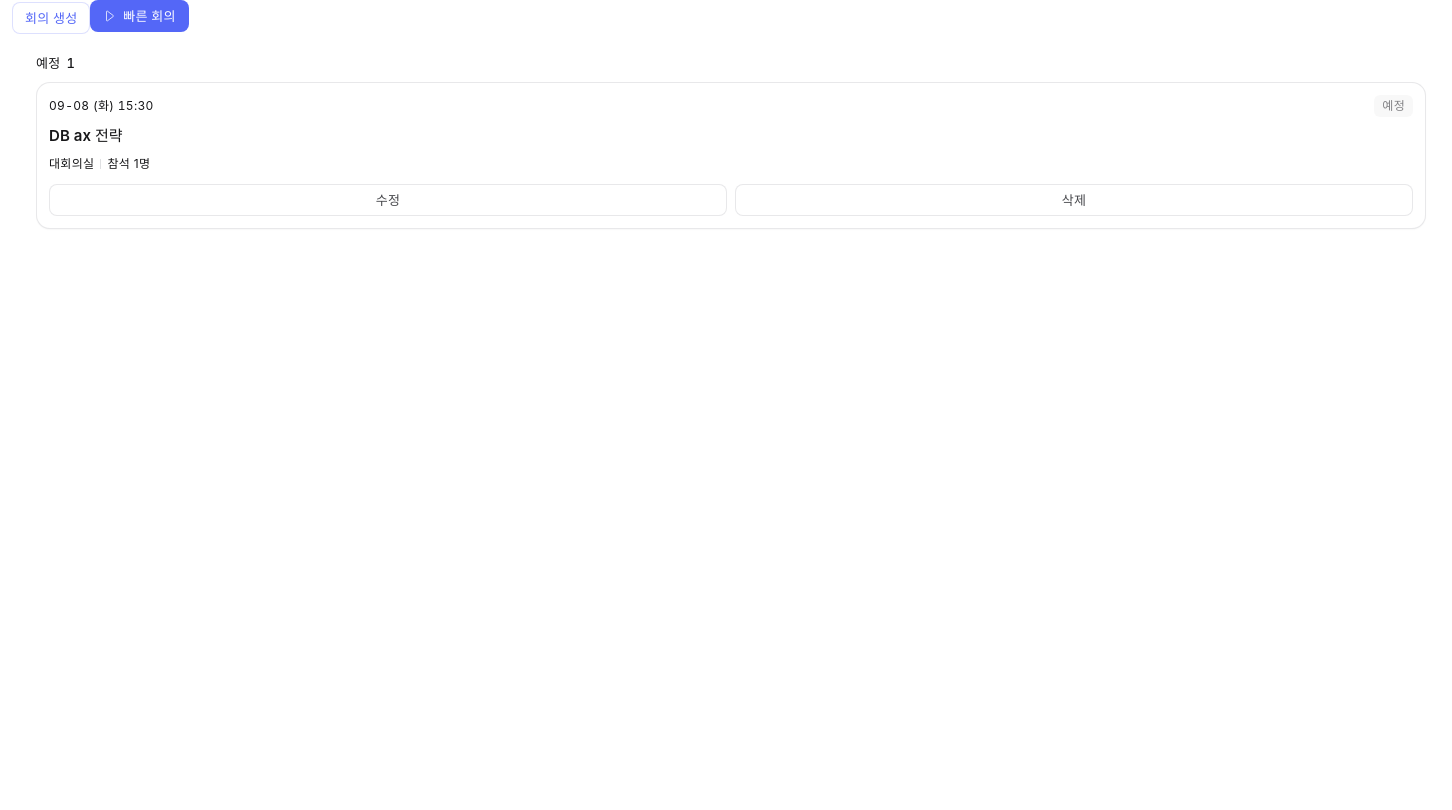
Test case: 회의 한 화면 4칸 (바퀴 6a) › 상세 ↔ 목록 동기화 › 회의를 시작하면 **카드 배지와 구획이 함께** 바뀐다
This screenshot has width=1452, height=810.
Step 1. Click the text "DB ax 전략" → (86, 136), box [49, 126, 123, 145]
(page scrolled)
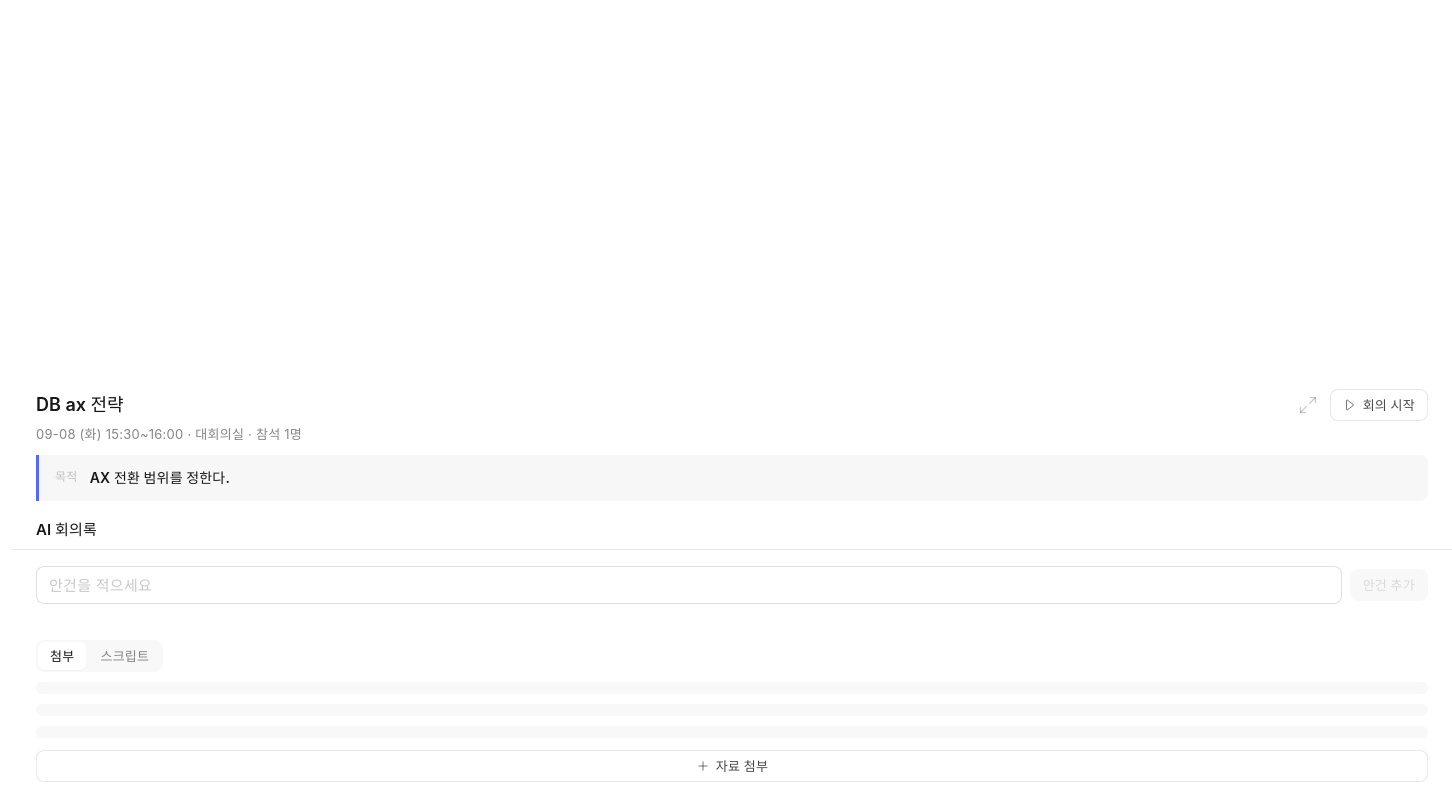
expect the button "회의 시작" is shown: met
Step 2. Click the button "회의 시작" → (1379, 405), box [1330, 389, 1428, 421]
(page scrolled)
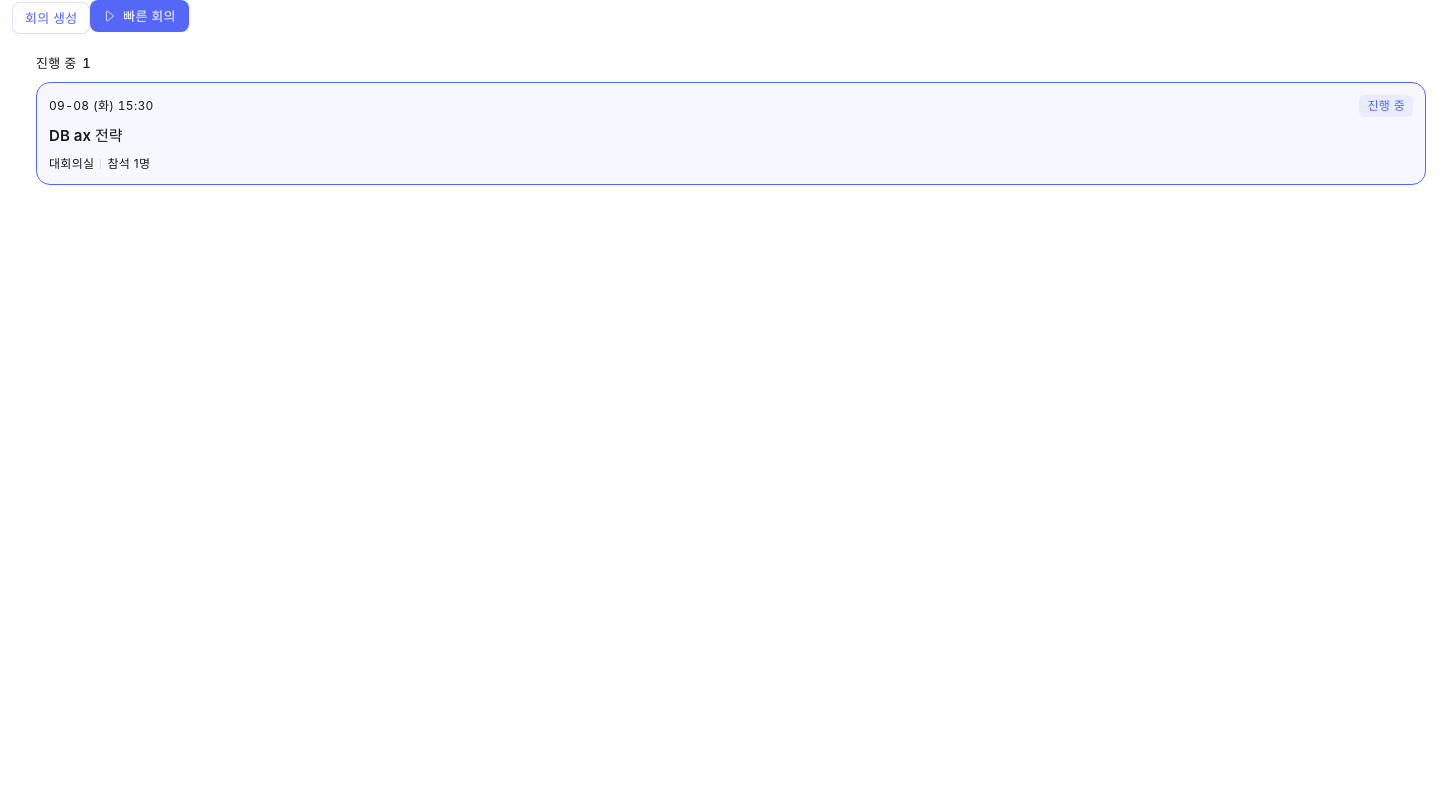
expect the heading "진행 중 1" is shown: met, box [36, 55, 91, 71]
